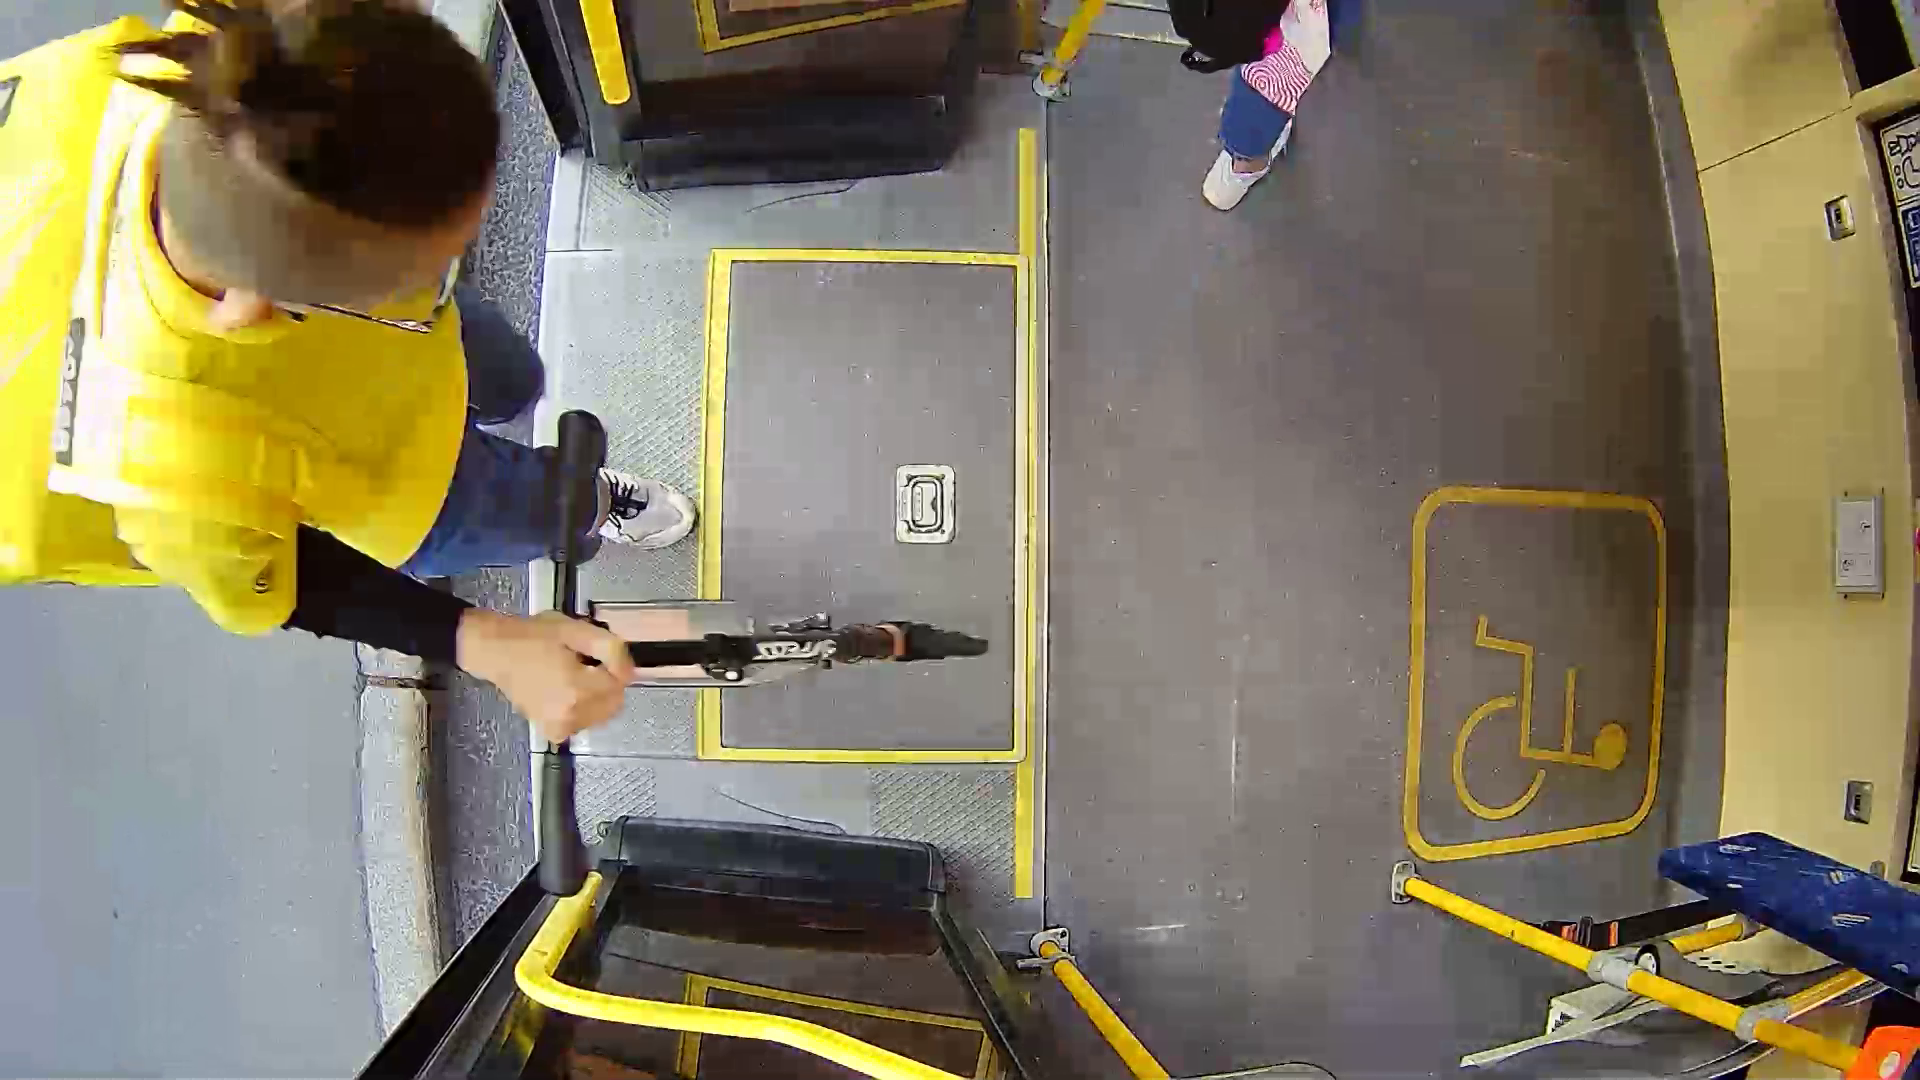person: (56, 4, 771, 703)
